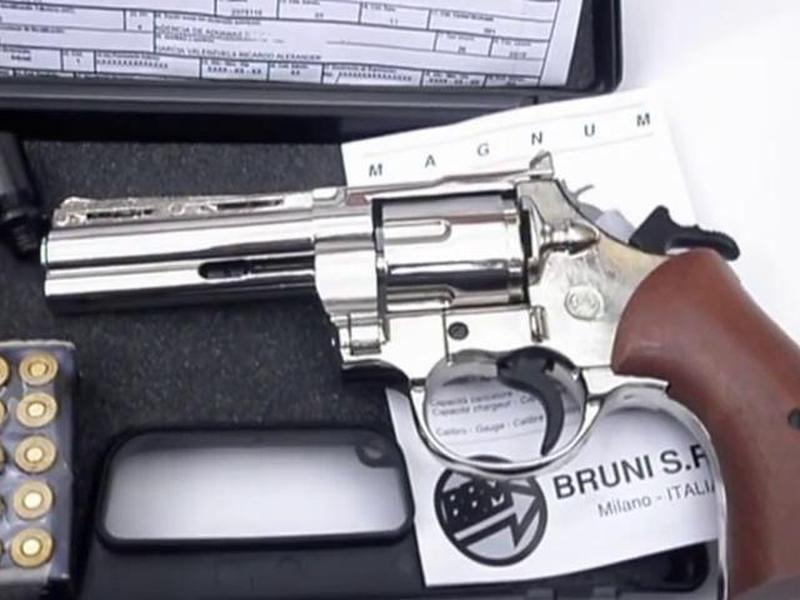Revolver: (38, 130, 695, 482)
